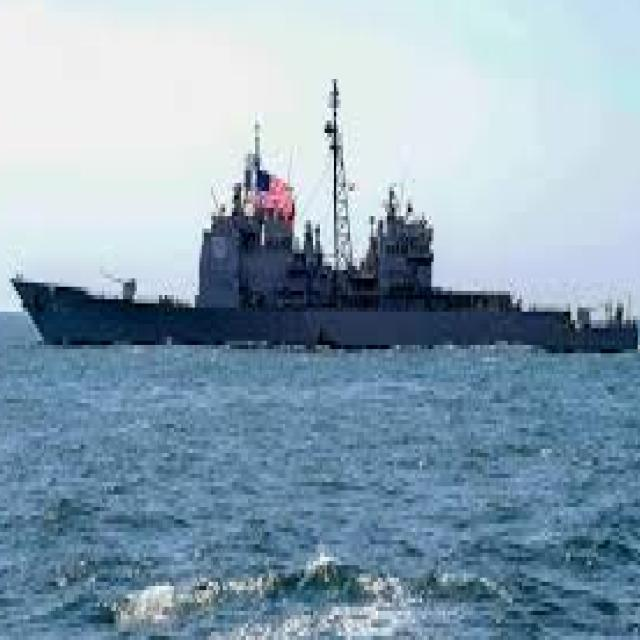navalvessels: (6, 34, 634, 376)
